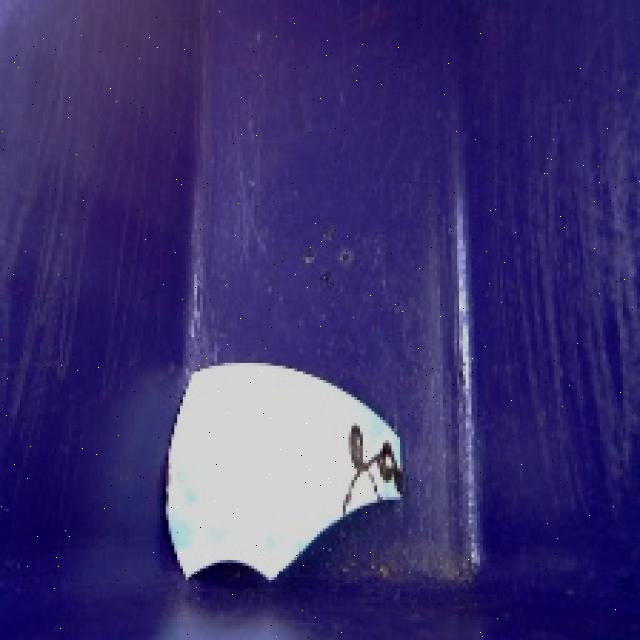china: (154, 349, 425, 601)
